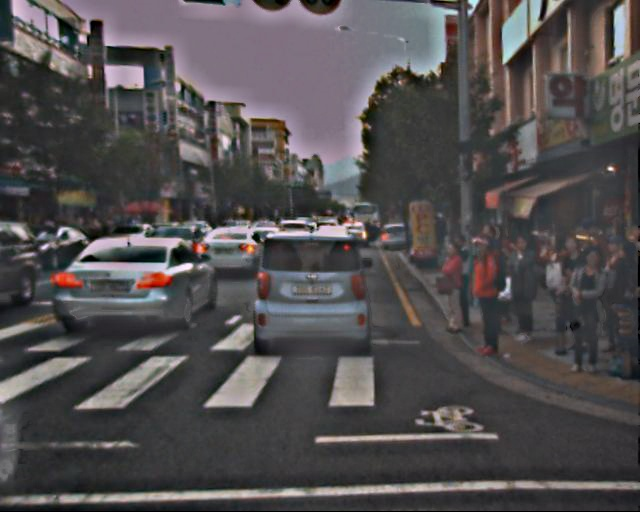person: (563, 248, 614, 372), (588, 234, 637, 354), (462, 236, 510, 353), (546, 237, 592, 348), (501, 238, 543, 341), (606, 246, 640, 370), (469, 224, 509, 322), (473, 220, 513, 318), (442, 234, 480, 326), (436, 244, 473, 334)
